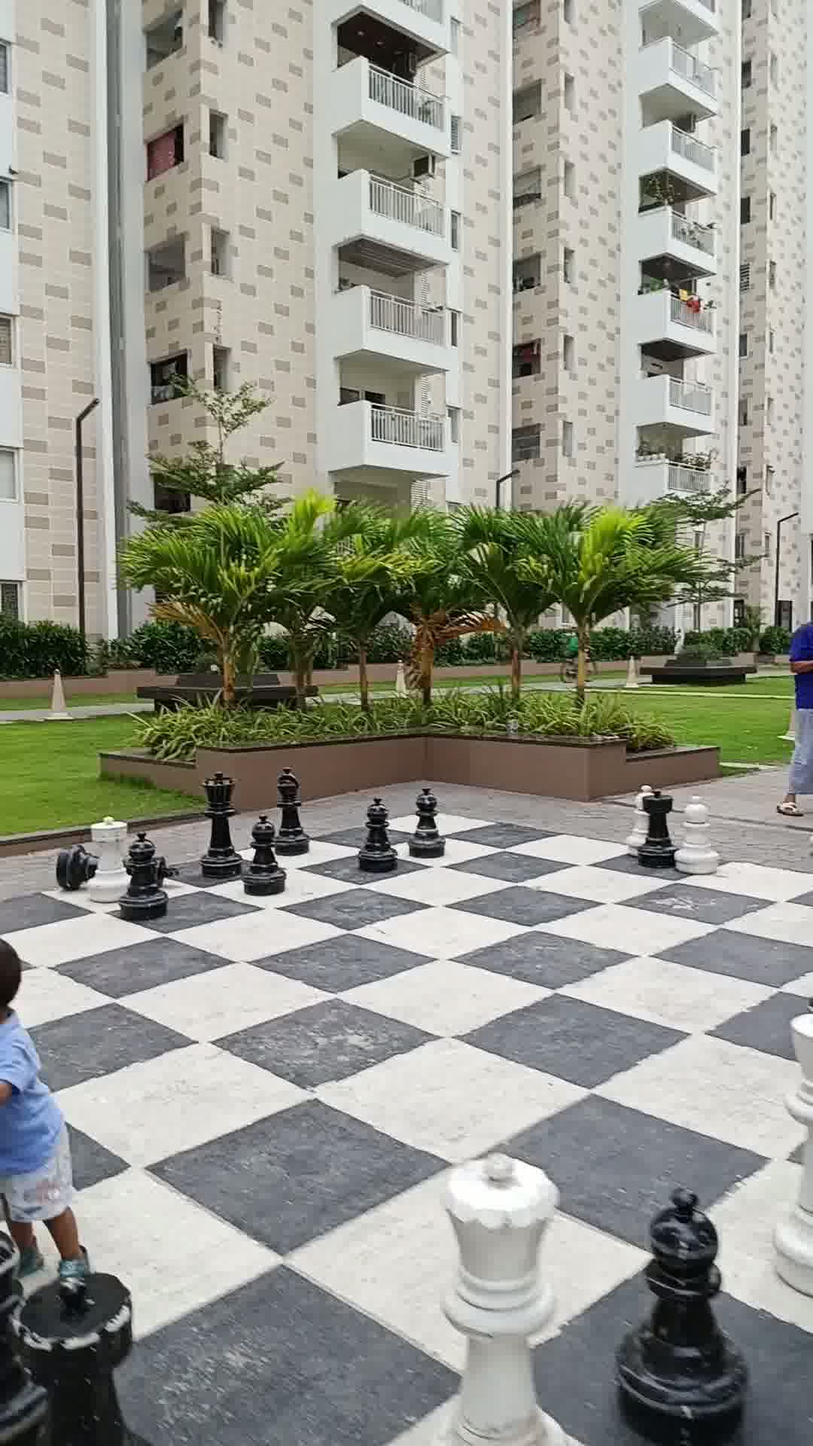person: (0, 934, 105, 1275), (762, 581, 813, 831)
tree: (122, 504, 296, 729), (524, 475, 686, 706), (364, 501, 501, 714), (646, 430, 760, 663), (242, 495, 367, 703), (475, 490, 589, 712), (137, 347, 287, 501)
